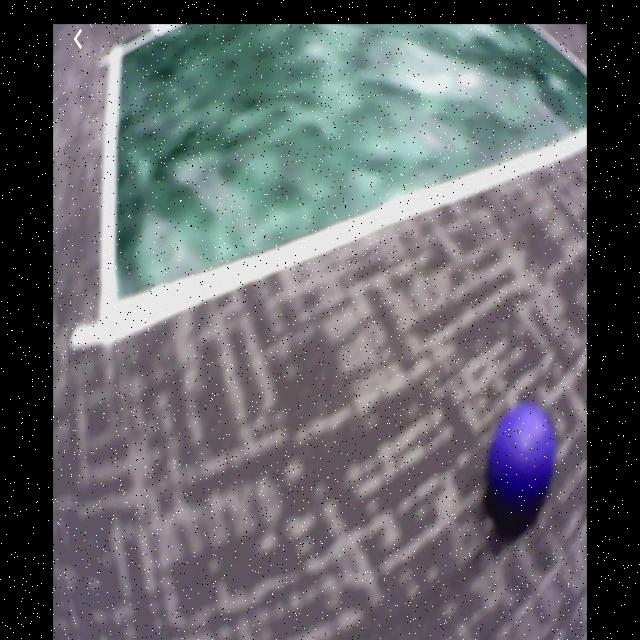ball: (493, 407, 553, 517)
